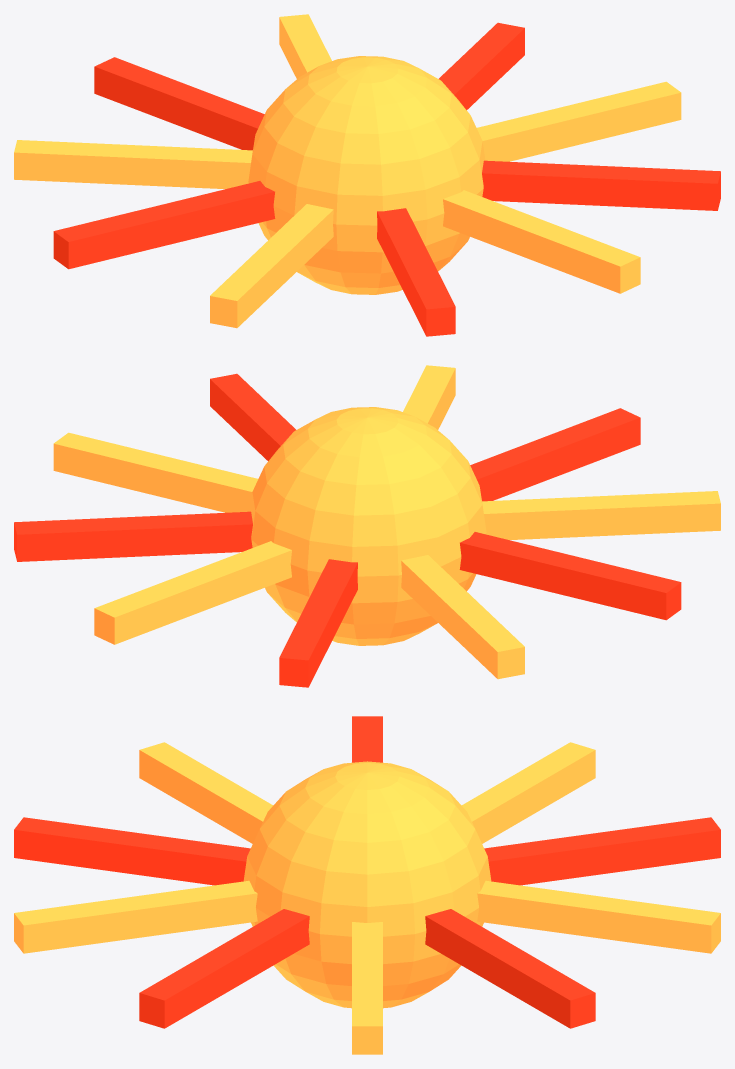
Rendered from crit_burst.glb.
3 views of the same model, one above another, from view 1: azimuth 30°, elevation 25°; view 2: azimuth 150°, elevation 25°; view 3: azimuth 270°, elevation 25° (orthographic). The views are drawn at different scales.
Parts seen in each view (by area): view 1: crit burst core, crit burst ray 9, crit burst ray 4, crit burst ray 5, crit burst ray 8, crit burst ray 0, crit burst ray 3, crit burst ray 6, crit burst ray 7, crit burst ray 1, crit burst ray 2; view 2: crit burst core, crit burst ray 1, crit burst ray 6, crit burst ray 5, crit burst ray 2, crit burst ray 0, crit burst ray 7, crit burst ray 4, crit burst ray 3, crit burst ray 9, crit burst ray 8; view 3: crit burst core, crit burst ray 2, crit burst ray 8, crit burst ray 3, crit burst ray 7, crit burst ray 1, crit burst ray 9, crit burst ray 4, crit burst ray 6, crit burst ray 0, crit burst ray 5.
Part boxes in pixels (box(x1,y1,x2,y2)): crit burst core: box(248, 56, 485, 294); crit burst ray 9: box(482, 160, 720, 210); crit burst ray 4: box(14, 140, 252, 189); crit burst ray 5: box(53, 181, 275, 269); crit burst ray 8: box(443, 190, 640, 293); crit burst ray 0: box(476, 81, 681, 161); crit burst ray 3: box(94, 57, 264, 150); crit burst ray 6: box(210, 204, 333, 328); crit burst ray 7: box(377, 208, 455, 336); crit burst ray 1: box(439, 22, 524, 109); crit burst ray 2: box(279, 14, 331, 78); crit burst core: box(249, 407, 486, 645); crit burst ray 1: box(14, 511, 252, 561); crit burst ray 6: box(482, 491, 720, 540); crit burst ray 5: box(459, 532, 681, 620); crit burst ray 2: box(94, 541, 291, 644); crit burst ray 0: box(53, 432, 258, 512); crit burst ray 7: box(470, 408, 640, 501); crit burst ray 4: box(401, 555, 524, 679); crit burst ray 3: box(279, 559, 357, 687); crit burst ray 9: box(210, 373, 295, 460); crit burst ray 8: box(403, 365, 455, 429); crit burst core: box(243, 761, 491, 1008); crit burst ray 2: box(477, 880, 720, 953); crit burst ray 8: box(14, 880, 257, 953); crit burst ray 3: box(484, 817, 720, 885); crit burst ray 7: box(14, 817, 250, 885); crit burst ray 1: box(425, 909, 595, 1028); crit burst ray 9: box(139, 909, 309, 1028); crit burst ray 4: box(462, 742, 595, 843); crit burst ray 6: box(139, 742, 272, 843); crit burst ray 0: box(352, 922, 382, 1054); crit burst ray 5: box(352, 716, 382, 762).
Size of the model in its own units: 1.06 by 0.36 by 1.02.
